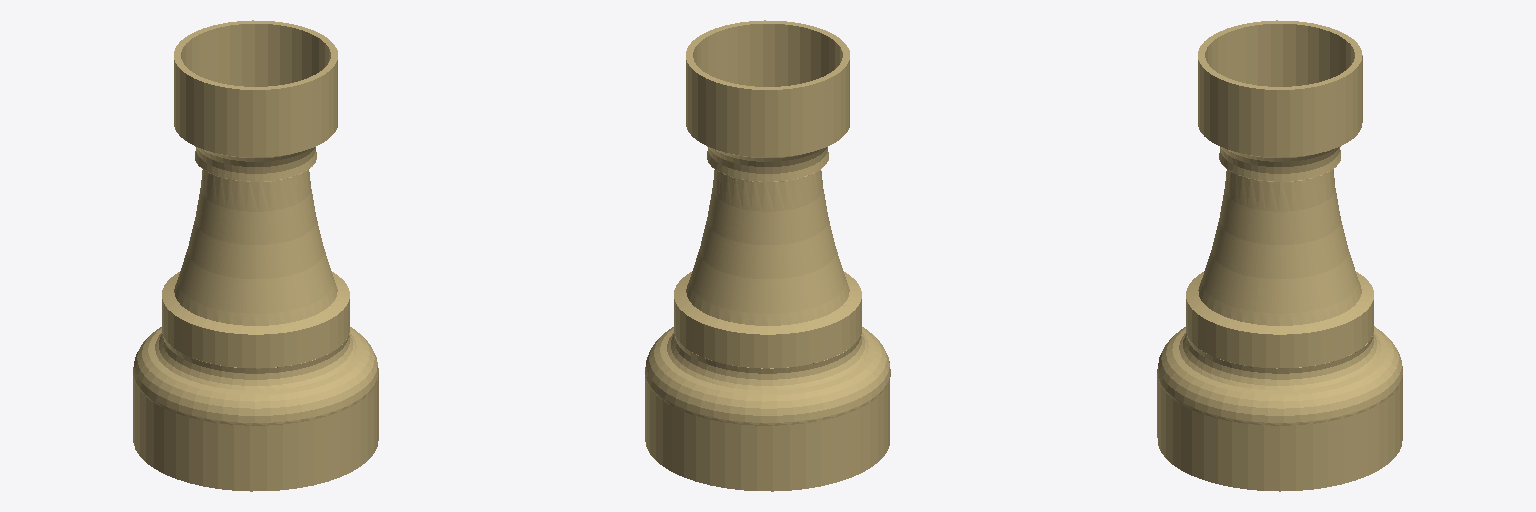
URDF robot description (rook):
<?xml version="1.0" ?>
<robot name="rook">
  <link name="rook__link_0">
    <inertial>
      <mass value="0.002"/>
      <origin rpy="0  0  0" xyz="0  0  0"/>
      <inertia ixx="0.145833" ixy="0" ixz="0" iyy="0.145833" iyz="0" izz="0.125"/>
    </inertial>
    
    <collision name="rook__collision">
      <origin rpy="1.570795  0  0" xyz="0  0  0"/>
      <geometry>
        <mesh filename="package://chessRobot/models/pieces/rook/whiteRook.dae" scale="0.00393700787 0.00393700787 0.00393700787"/>
      </geometry>
    <mu1 value="1.0"/>
    <mu2 value="1.0"/>
    <kp  value="10000000.0" />
    <kd  value="1.0" />
    <minDepth>0.002</minDepth>
    <maxVel>0</maxVel>  
    <dynamics damping="0.7" friction="1000" />
    </collision>
    
    <visual name="rook__visual">
      <origin rpy="1.570795  0  0" xyz="0  0  0"/>
      <geometry>
        <mesh filename="package://chessRobot/models/pieces/rook/whiteRook.dae" scale="0.00393700787 0.00393700787 0.00393700787"/>
      </geometry>
    </visual>
  </link>
</robot>
 

--- What the picture shows (computed from the rendered views, not written in the file) ---
3 views of the same robot in one strip: view 1: azimuth 30°, elevation 25°; view 2: azimuth 150°, elevation 25°; view 3: azimuth 270°, elevation 25° (orthographic).
Robot: rook — 1 links, 0 joints (none); root link rook__link_0; default pose: every joint at zero.
Links seen in each view (by area): view 1: rook__link_0; view 2: rook__link_0; view 3: rook__link_0.
Boxes of the visible links, left/top/right/bottom form: rook__link_0: left=133, top=20, right=378, bottom=491; rook__link_0: left=645, top=20, right=890, bottom=491; rook__link_0: left=1157, top=20, right=1402, bottom=491.
Bounding box of the posed robot: 0.033 × 0.033 × 0.057 m (x, y, z).
1 mesh visuals loaded from 1 distinct referenced files (1 Collada DAE).